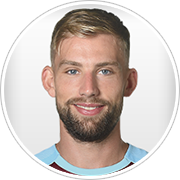smile: (72, 101, 107, 116)
